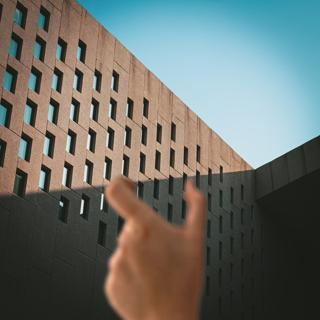Irritated: (94, 165, 215, 315)
